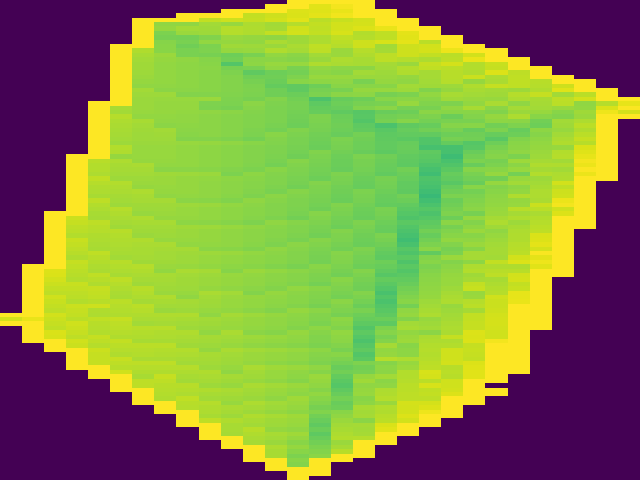cube: (2, 2, 640, 480)
